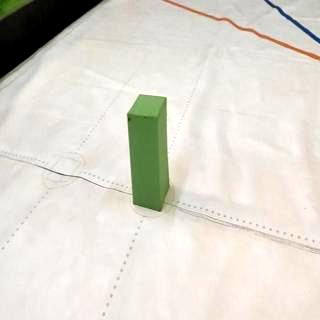greenbox: (128, 94, 170, 212)
